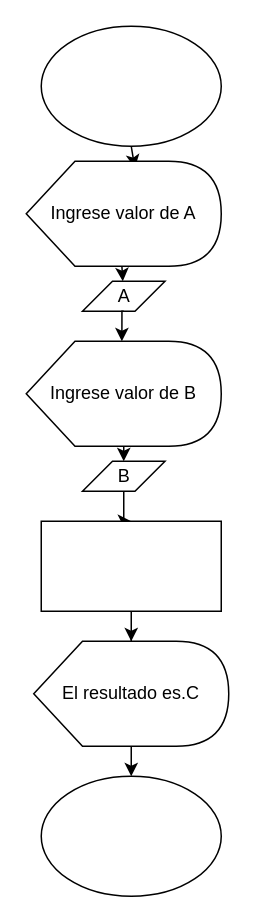
The diagram is 255 pixels wide and 923 high, and some of its shapes have lost their labels. Here are the shapes that lost their labels. From the top down, the box of each, then its label:
(40, 25, 221, 146): inicio
(40, 520, 221, 611): C=√(A^2+B^2)
(40, 775, 221, 896): FIN
